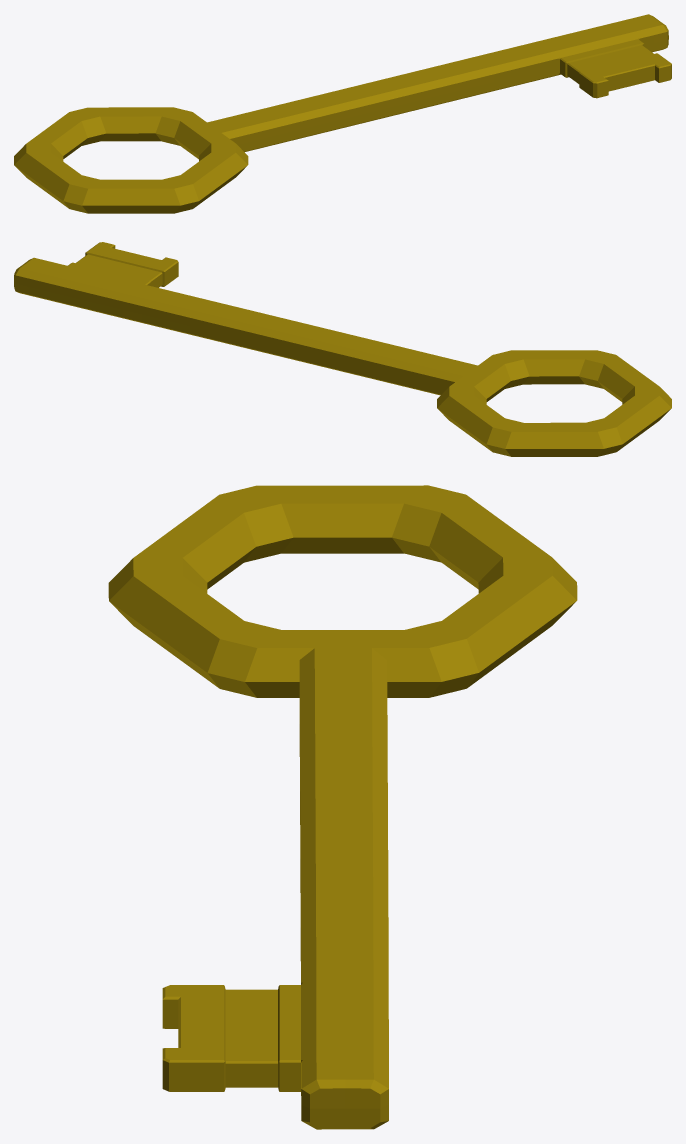
File: key.fbx
3 renders of one model, top to bottom at view 1: azimuth 30°, elevation 25°; view 2: azimuth 150°, elevation 25°; view 3: azimuth 270°, elevation 25°, orthographic. The views are drawn at different scales.
Parts seen in each view (by area): view 1: Torus.002; view 2: Torus.002; view 3: Torus.002.
Part boxes in pixels (x1,y1,x2,y2): Torus.002: [14, 14, 671, 213]; Torus.002: [14, 242, 671, 456]; Torus.002: [108, 485, 577, 1129].
Bounding box in the file's own units: 142 × 5.45 × 46.32.
